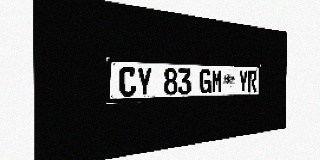3: (178, 68, 191, 95)
8: (164, 68, 178, 95)
C: (119, 67, 136, 97)
G: (200, 69, 211, 94)
M: (211, 69, 222, 93)
R: (248, 70, 257, 92)
Y: (136, 67, 152, 96), (238, 70, 248, 92)
